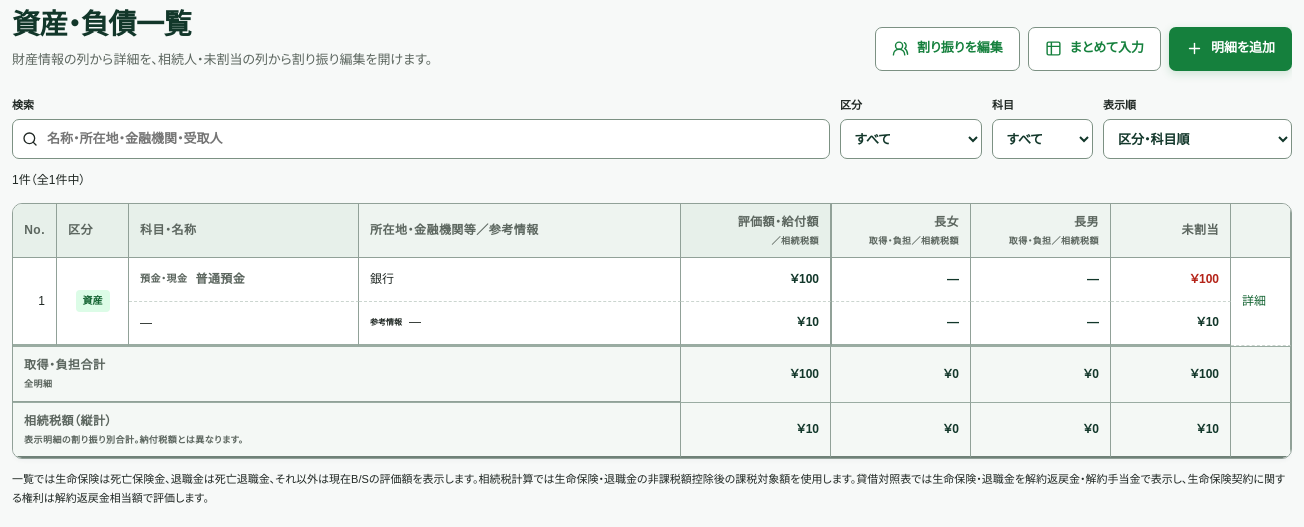
資産・負債一覧と詳細の連携 › 入力済みの割り振りを維持して残額すべてを指定相続人へ割り振る
Click the button "割り振りを編集": (947, 49) [875,27,1020,71]
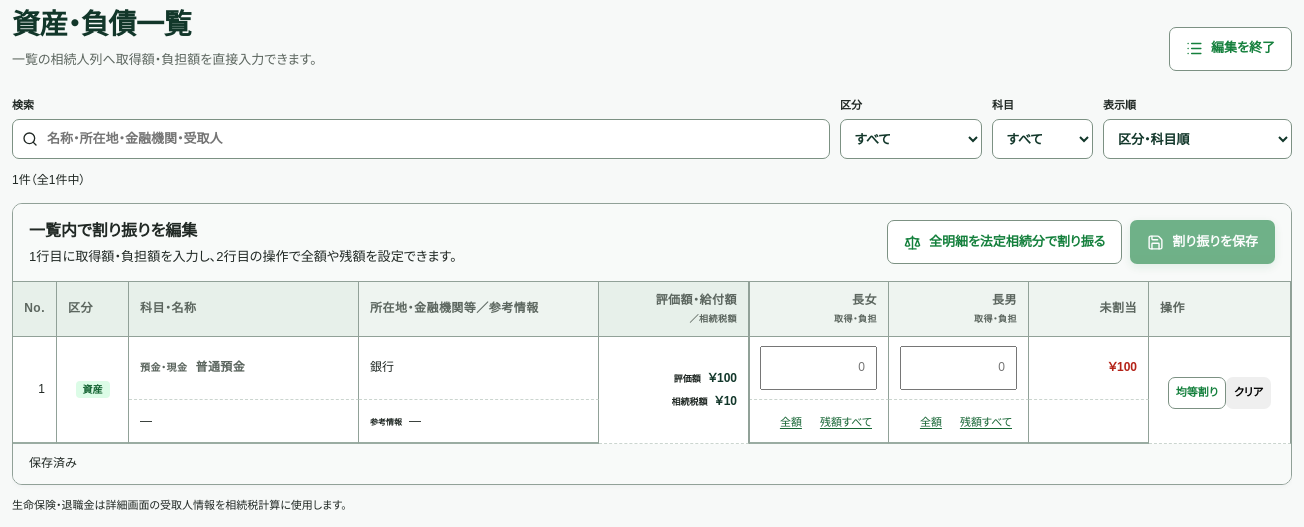
In the field named "普通預金の長女取得額": (818, 368) [760,346,877,390], type "30"
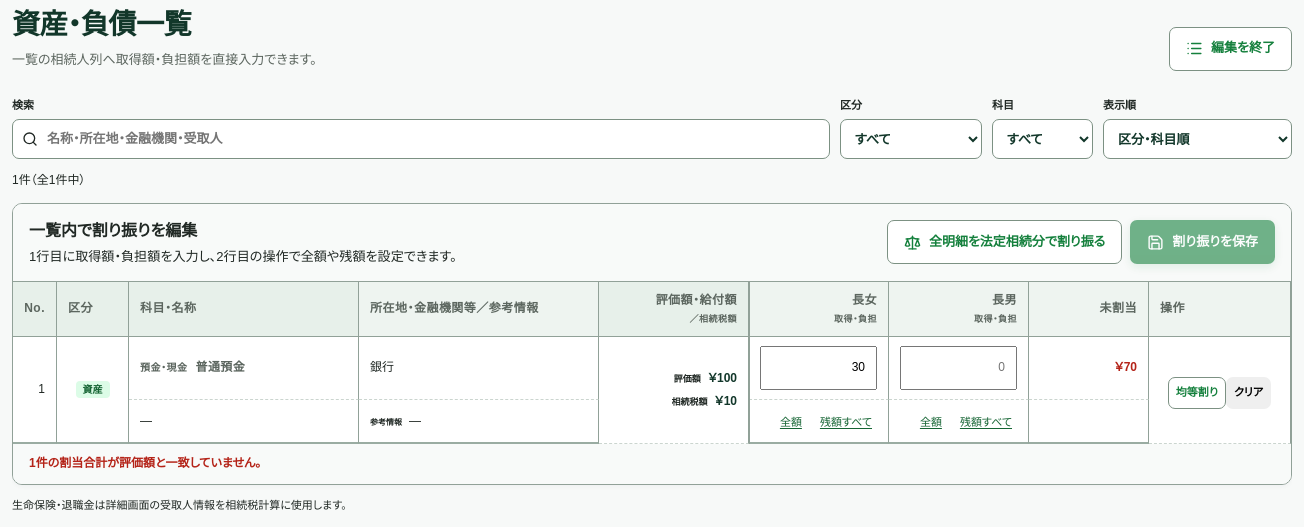
In the field named "普通預金の長男取得額": (958, 368) [900,346,1017,390], type "20"
Click the button with aria-label "普通預金の残額すべてを長男へ割り振る": (986, 423) [955,412,1017,433]
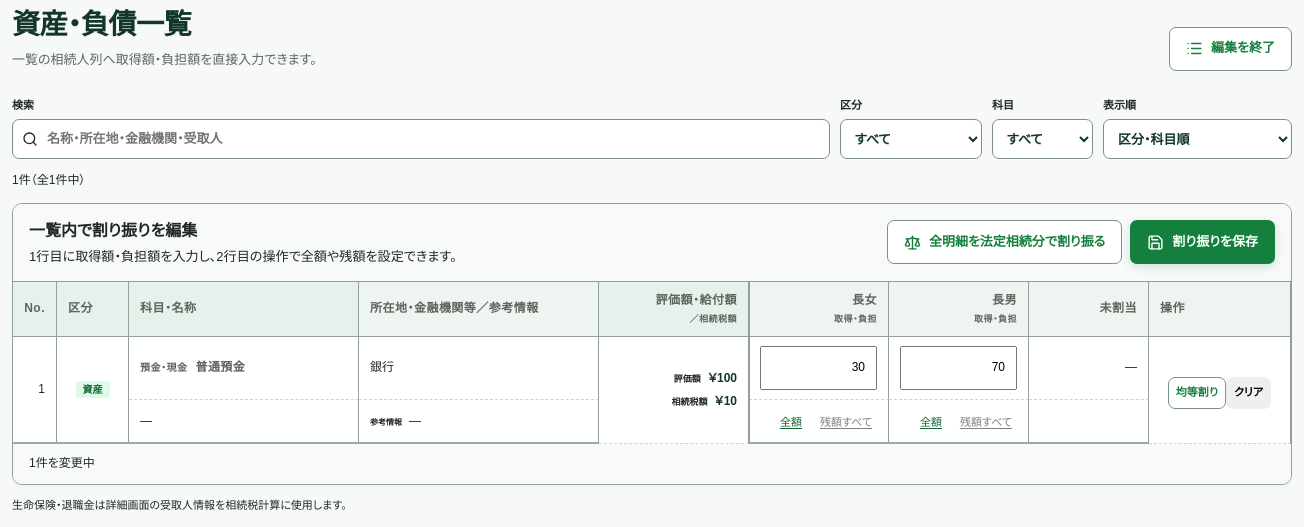
Check: the field named "普通預金の長男取得額" holds "70", box [900,346,1017,390]
Check: the button with aria-label "普通預金の残額すべてを長男へ割り振る" is disabled, box [955,412,1017,433]
Click the button with aria-label "普通預金の全額を長女へ割り振る": (791, 423) [775,412,807,433]
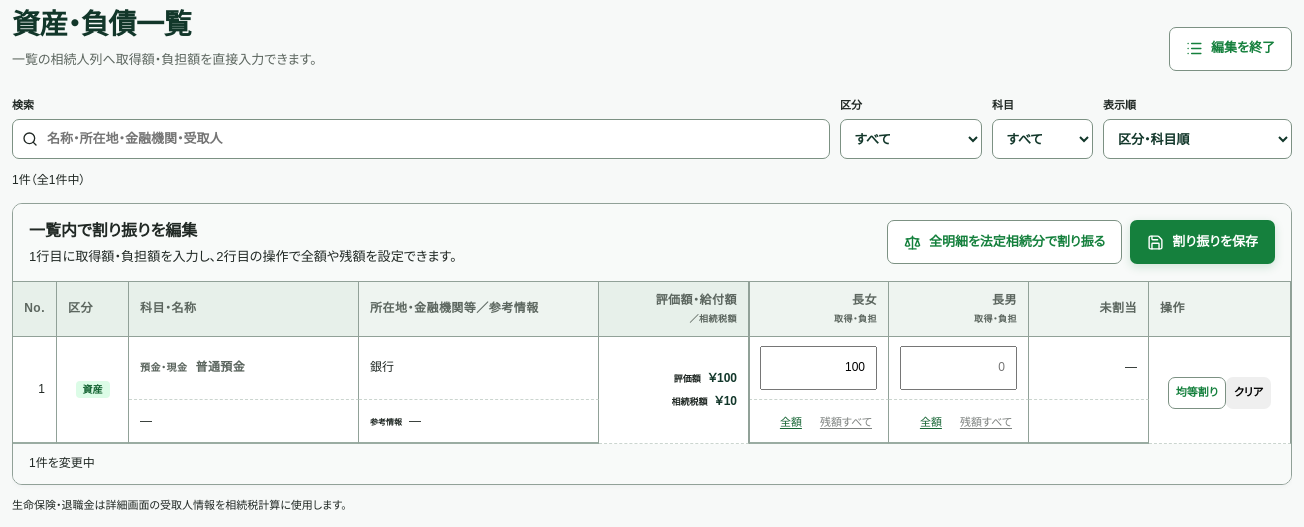
Check: the field named "普通預金の長女取得額" holds "100", box [760,346,877,390]
Check: the field named "普通預金の長男取得額" is empty, box [900,346,1017,390]
Click the button "編集を終了": (1230, 49) [1169,27,1292,71]
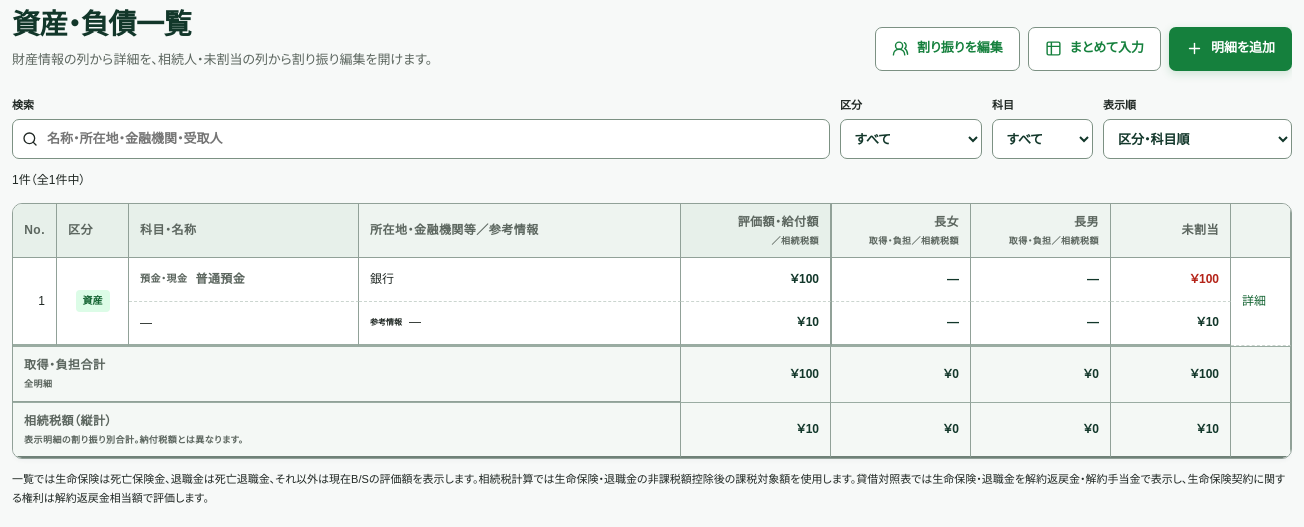
Click the button "割り振りを編集": (947, 49) [875,27,1020,71]
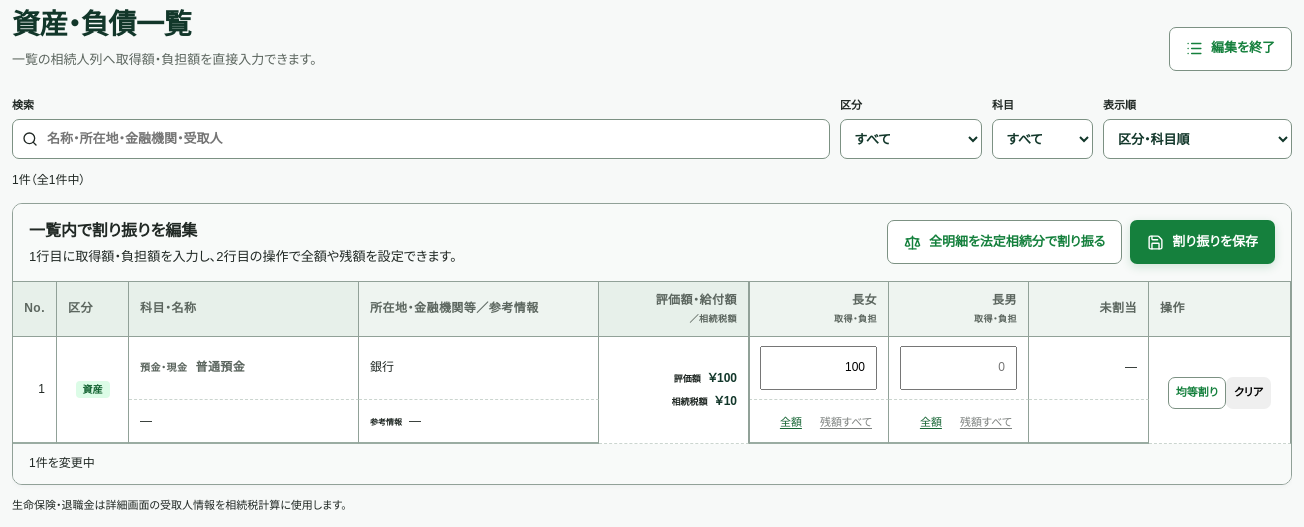
Check: the field named "普通預金の長女取得額" holds "100", box [760,346,877,390]
Check: the field named "普通預金の長男取得額" is empty, box [900,346,1017,390]
